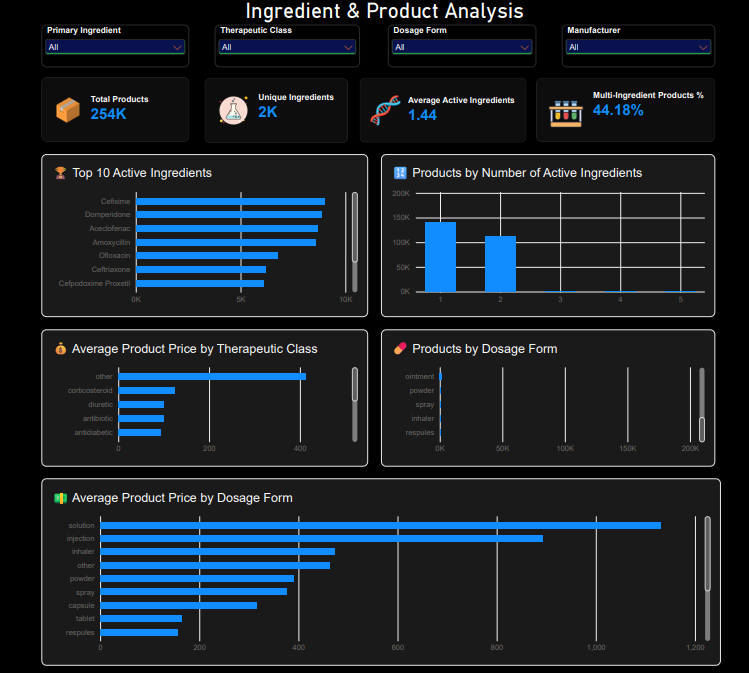

What the dashboard file says about the page in this screenshot:
{"tool":"powerbi","page":{"name":"04_Ingredient_Product_Analysis","canvas":[1920,1080],"ordinal":3},"visuals":[{"type":"textbox","box":[714,0,522,46],"z":0},{"type":"cardVisual","fields":{"Data":["KPI_Measures.Total Products"]},"box":[426,125,236,103],"z":1000},{"type":"cardVisual","fields":{"Data":["KPI_Measures.Unique Ingredients"]},"box":[687,127,229,103],"z":2000},{"type":"cardVisual","fields":{"Data":["KPI_Measures.Average Active Ingredients"]},"box":[935,126,266,103],"z":3000},{"type":"cardVisual","fields":{"Data":["KPI_Measures.Multi-Ingredient Products %"]},"box":[1217,126,286,102],"z":4000},{"type":"clusteredBarChart","title":"🏆 Top 10 Active Ingredients","fields":{"Category":["Pharma_Products.Primary_ingredient"],"Y":["KPI_Measures.Total Products"]},"box":[426,248,522,260],"z":5000},{"type":"clusteredColumnChart","title":"🔢 Products by Number of Active Ingredients","fields":{"Category":["Pharma_Products.Num_active_ingredients"],"Y":["KPI_Measures.Total Products"]},"box":[969,248,534,260],"z":6000},{"type":"clusteredBarChart","title":"💰 Average Product Price by Therapeutic Class","fields":{"Category":["Pharma_Products.Therapeutic_class"],"Y":["KPI_Measures.Average Product Price"]},"box":[426,528,522,219],"z":7000},{"type":"clusteredBarChart","title":"💊 Products by Dosage Form","fields":{"Category":["Pharma_Products.Dosage_form"],"Y":["KPI_Measures.Total Products"]},"box":[969,528,534,219],"z":8000},{"type":"clusteredBarChart","title":"💵 Average Product Price by Dosage Form","fields":{"Category":["Pharma_Products.Dosage_form"],"Y":["KPI_Measures.Average Product Price"]},"box":[426,766,1086,299],"z":9000},{"type":"slicer","fields":{"Values":["Pharma_Products.Primary_ingredient"]},"box":[426,41,236,68],"z":10000},{"type":"slicer","fields":{"Values":["Pharma_Products.Therapeutic_class"]},"box":[703,41,232,68],"z":11000},{"type":"slicer","fields":{"Values":["Pharma_Products.Dosage_form"]},"box":[980,41,237,68],"z":12000},{"type":"slicer","fields":{"Values":["Pharma_Products.Manufacturer"]},"box":[1258,41,245,68],"z":13000}]}

Visuals, with their boxes on the page's 1920x1080 design canvas (x1, y1, x2, y2). These are canvas units, not pixel positions in the 749x673 screenshot, which may show the page scaled, cropped or inside an application window:
textbox: bbox(714, 0, 1236, 46)
cardVisual - KPI_Measures.Total Products: bbox(426, 125, 662, 228)
cardVisual - KPI_Measures.Unique Ingredients: bbox(687, 127, 916, 230)
cardVisual - KPI_Measures.Average Active Ingredients: bbox(935, 126, 1201, 229)
cardVisual - KPI_Measures.Multi-Ingredient Products %: bbox(1217, 126, 1503, 228)
"🏆 Top 10 Active Ingredients" clusteredBarChart: bbox(426, 248, 948, 508)
"🔢 Products by Number of Active Ingredients" clusteredColumnChart: bbox(969, 248, 1503, 508)
"💰 Average Product Price by Therapeutic Class" clusteredBarChart: bbox(426, 528, 948, 747)
"💊 Products by Dosage Form" clusteredBarChart: bbox(969, 528, 1503, 747)
"💵 Average Product Price by Dosage Form" clusteredBarChart: bbox(426, 766, 1512, 1065)
slicer - Pharma_Products.Primary_ingredient: bbox(426, 41, 662, 109)
slicer - Pharma_Products.Therapeutic_class: bbox(703, 41, 935, 109)
slicer - Pharma_Products.Dosage_form: bbox(980, 41, 1217, 109)
slicer - Pharma_Products.Manufacturer: bbox(1258, 41, 1503, 109)
